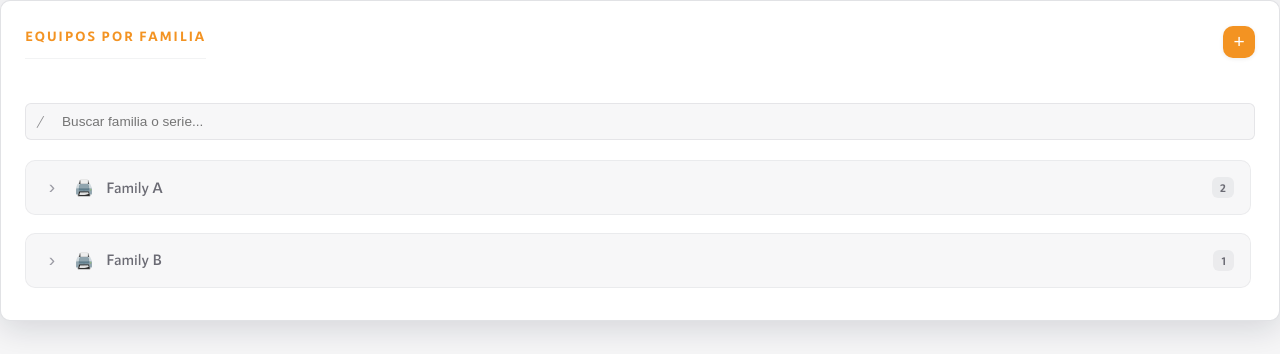
Scenario: AvisosSidebar › filters families and devices by search term
Type "B1" into the field with placeholder "Buscar familia o serie..." at (640, 122), box top-left (25, 103), bottom-right (1255, 140)
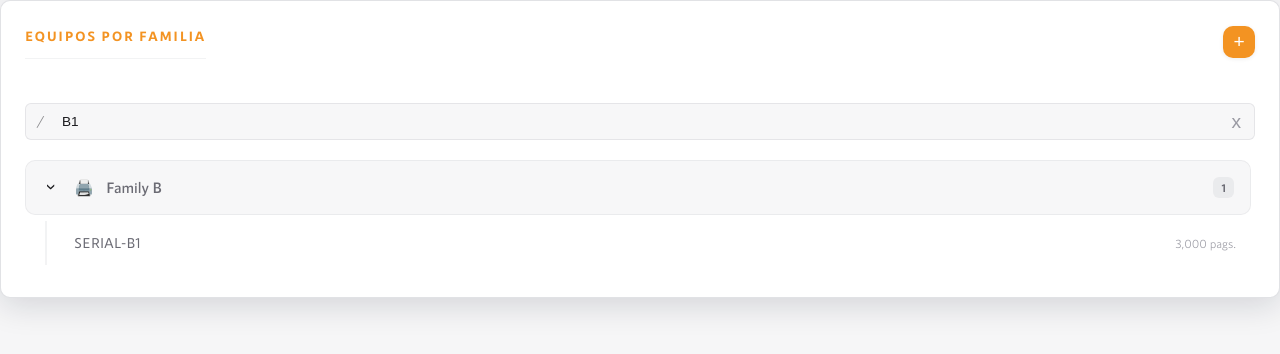
Expected: the text "Family B" is shown, top-left (106, 178), bottom-right (162, 196)
Expected: the text "Family A" is gone
Expected: the text "SERIAL-B1" is shown, top-left (74, 232), bottom-right (141, 254)
